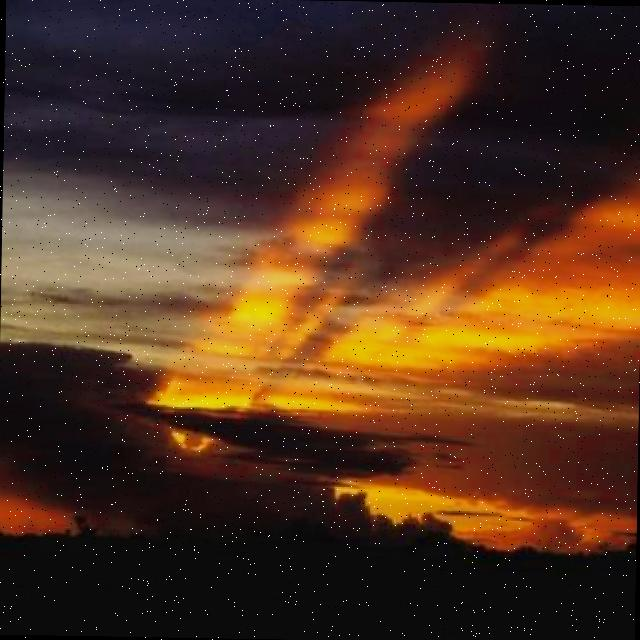Cu: (1, 98, 640, 499)
